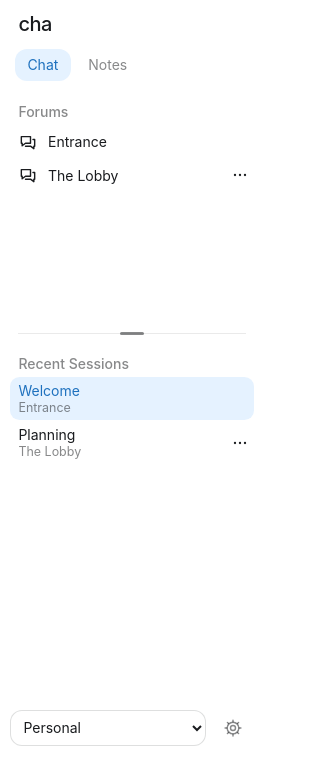
Test: Sidebar session actions › reports a vault switch failure and restores the selector
Select "Projects" in the dropdown named "Vault" at (108, 728), box [10,710,206,746]
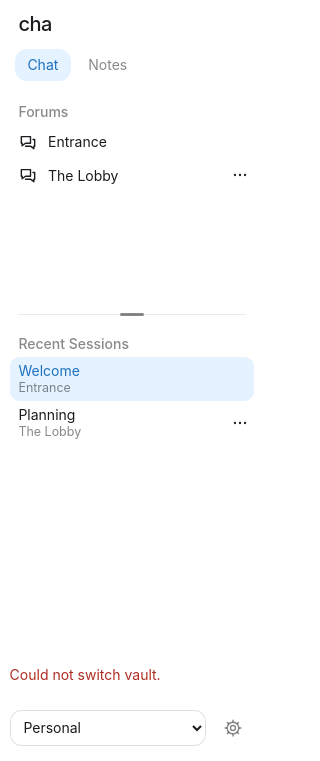
Check: the message reads "Could not switch vault.", box [10,666,161,683]
